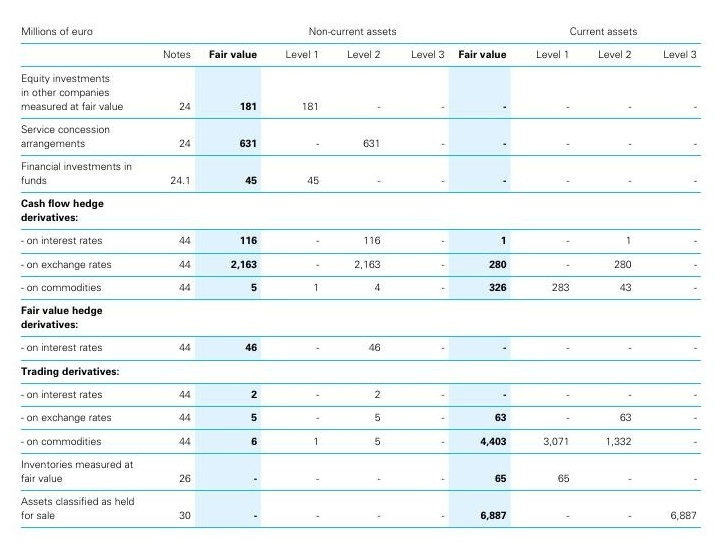table: (0, 0, 721, 544)
